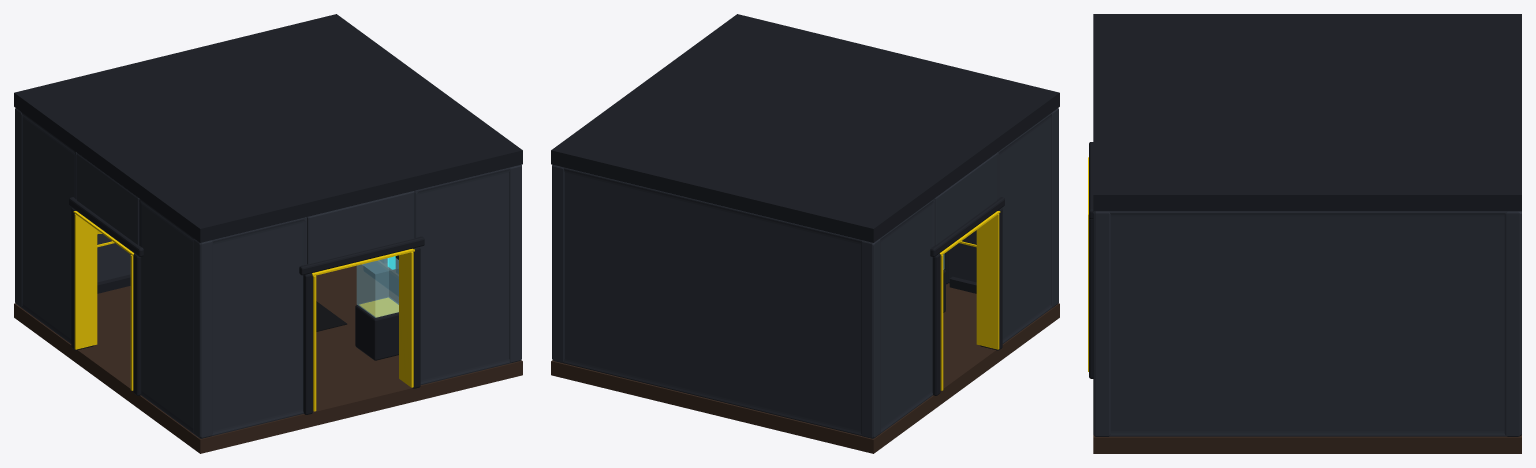
File: Mod_Room_ExecutiveOffice.fbx
3 renders of one model, left to right at view 1: azimuth 30°, elevation 25°; view 2: azimuth 150°, elevation 25°; view 3: azimuth 270°, elevation 25°, orthographic. The views are drawn at different scales.
Visible parts, largest first — view 1: Mod_Room_ExecutiveOffice__DarkMetal, Mod_Room_ExecutiveOffice__SteelPanel, Mod_Room_ExecutiveOffice__Wood, Mod_Room_ExecutiveOffice__NeonGold, Mod_Room_ExecutiveOffice__Glass, Mod_Room_ExecutiveOffice__CarbonFiber; view 2: Mod_Room_ExecutiveOffice__SteelPanel, Mod_Room_ExecutiveOffice__DarkMetal, Mod_Room_ExecutiveOffice__Wood, Mod_Room_ExecutiveOffice__NeonGold; view 3: Mod_Room_ExecutiveOffice__SteelPanel, Mod_Room_ExecutiveOffice__DarkMetal, Mod_Room_ExecutiveOffice__Wood.
Boxes of the visible parts, x1=… form: Mod_Room_ExecutiveOffice__DarkMetal: x1=14, y1=14, x2=522, y2=414; Mod_Room_ExecutiveOffice__SteelPanel: x1=15, y1=108, x2=521, y2=438; Mod_Room_ExecutiveOffice__Wood: x1=14, y1=260, x2=522, y2=453; Mod_Room_ExecutiveOffice__NeonGold: x1=73, y1=211, x2=414, y2=411; Mod_Room_ExecutiveOffice__Glass: x1=356, y1=256, x2=398, y2=317; Mod_Room_ExecutiveOffice__CarbonFiber: x1=316, y1=301, x2=347, y2=331; Mod_Room_ExecutiveOffice__SteelPanel: x1=552, y1=108, x2=1058, y2=438; Mod_Room_ExecutiveOffice__DarkMetal: x1=551, y1=14, x2=1059, y2=395; Mod_Room_ExecutiveOffice__Wood: x1=551, y1=283, x2=1059, y2=453; Mod_Room_ExecutiveOffice__NeonGold: x1=940, y1=211, x2=1000, y2=390; Mod_Room_ExecutiveOffice__SteelPanel: x1=1093, y1=211, x2=1521, y2=436; Mod_Room_ExecutiveOffice__DarkMetal: x1=1089, y1=14, x2=1521, y2=378; Mod_Room_ExecutiveOffice__Wood: x1=1093, y1=435, x2=1521, y2=453.
Bounding box in the file's own units: 24.3 × 16 × 24.3.
